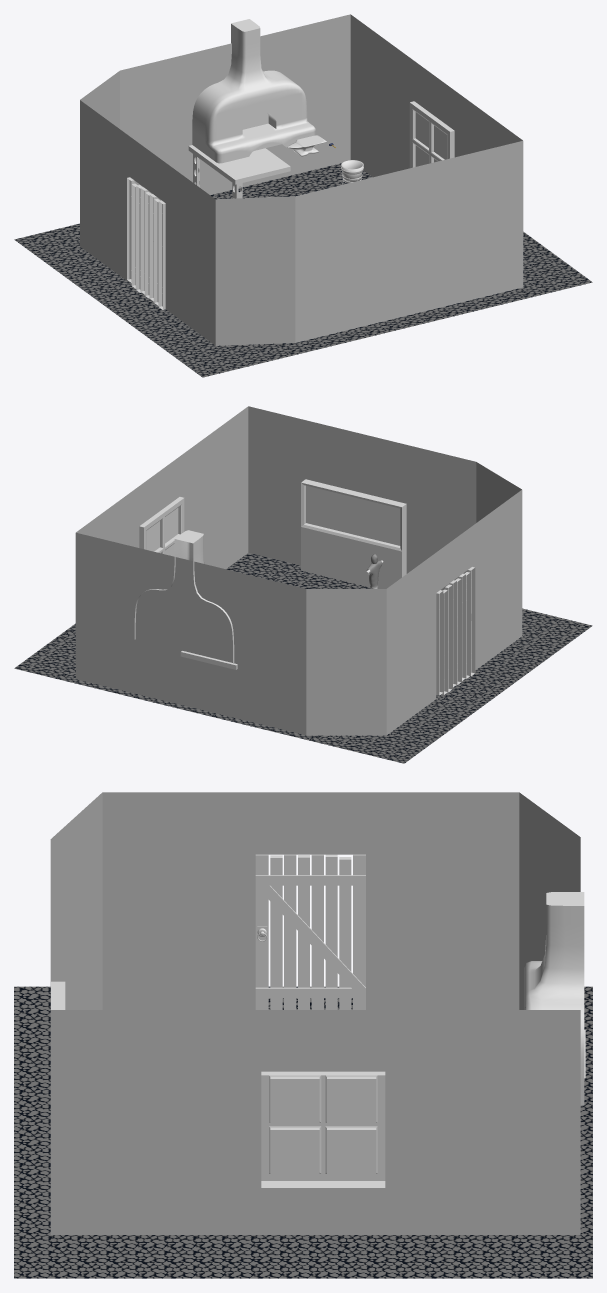
The picture shows the model from 3 angles, top to bottom: view 1: azimuth 30°, elevation 25°; view 2: azimuth 150°, elevation 25°; view 3: azimuth 270°, elevation 25°; orthographic projection. The views are drawn at different scales.
Visible parts, largest first — view 1: Wall, Floor, Forge, Door, Window, Table1, Anvil; view 2: Wall, Floor, Cabinet, Door, Window, Forge; view 3: Wall, Floor, Door, Window, Forge.
Part boxes in pixels (box(x1,y1,x2,y2)): Wall: box(80, 14, 523, 345); Floor: box(14, 163, 592, 377); Forge: box(192, 19, 315, 163); Door: box(127, 177, 165, 309); Window: box(409, 101, 454, 168); Table1: box(188, 145, 290, 198); Anvil: box(287, 134, 326, 156); Wall: box(75, 406, 522, 735); Floor: box(14, 553, 592, 763); Cabinet: box(301, 479, 406, 588); Door: box(436, 567, 475, 695); Window: box(139, 497, 184, 556); Forge: box(134, 530, 234, 663); Wall: box(50, 792, 580, 1234); Floor: box(14, 986, 592, 1278); Door: box(255, 854, 365, 1009); Window: box(261, 1071, 385, 1187); Forge: box(524, 892, 584, 1105).
Size of the model in its own units: 835 by 699 by 347.
